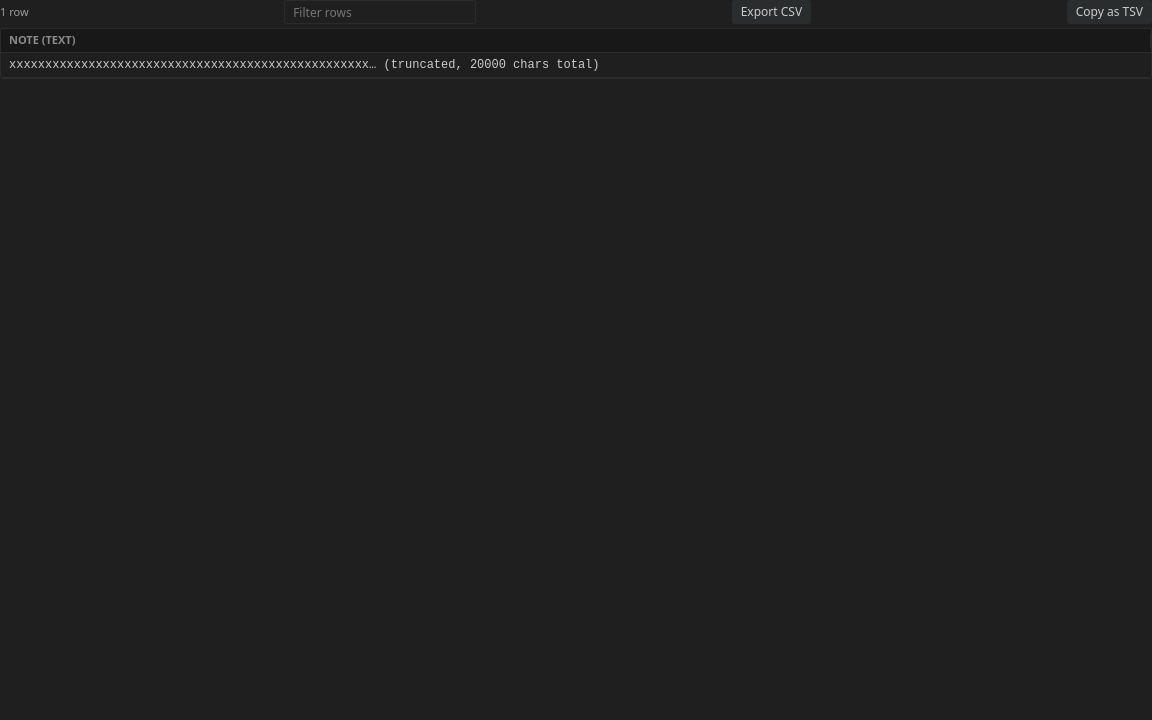
ResultsGrid — cell viewer › says clearly when the server truncated the cell at its 16 KB marker
Click the cell. click: (576, 65)
box: x1=1 y1=52 x2=1151 y2=78
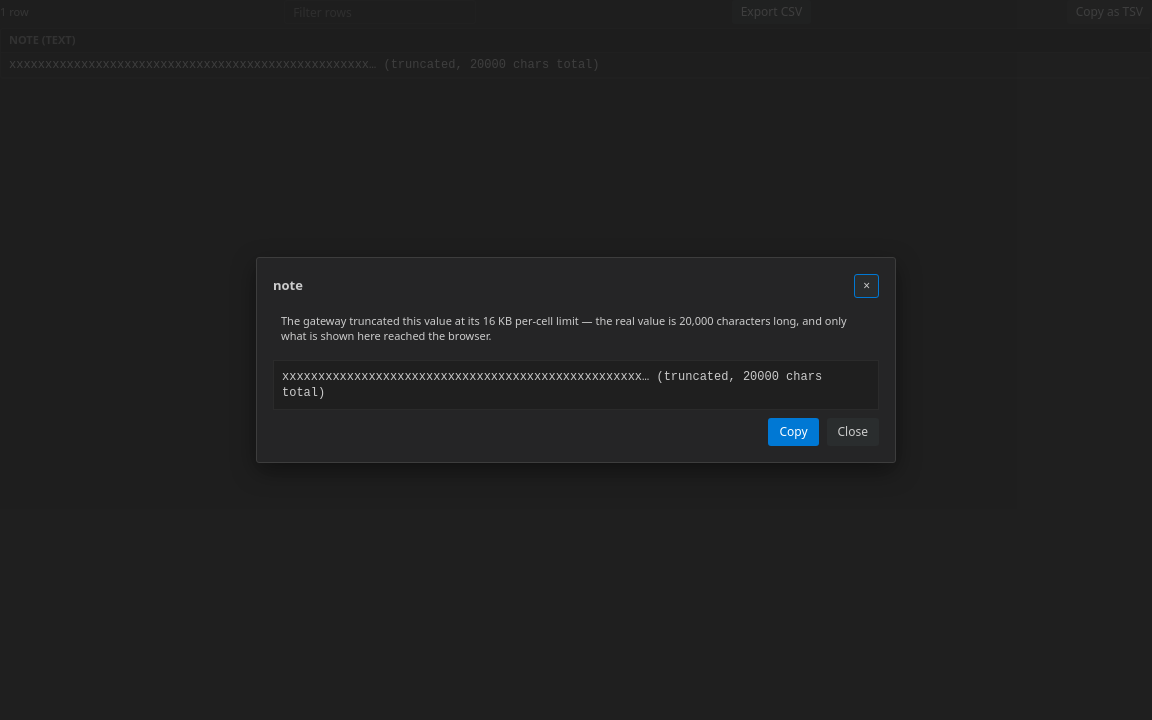
Expected: the text "truncated this value" is shown, x1=281 y1=313 x2=676 y2=328
Expected: the text "20,000 characters long" is shown, x1=273 y1=306 x2=879 y2=352
